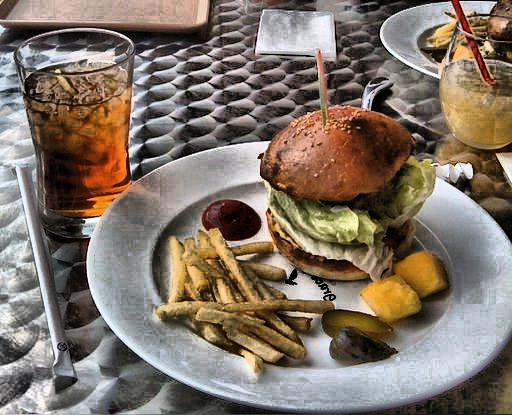burger: (245, 91, 426, 272)
